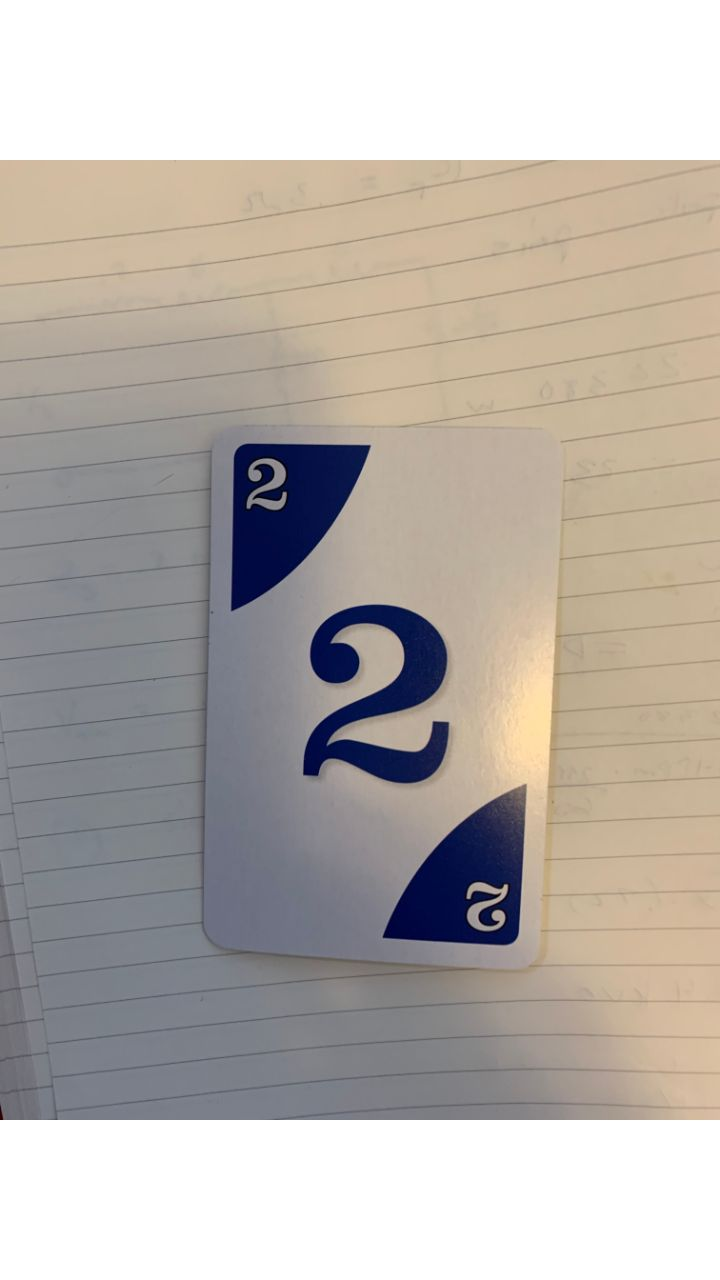two: (186, 417, 576, 985)
